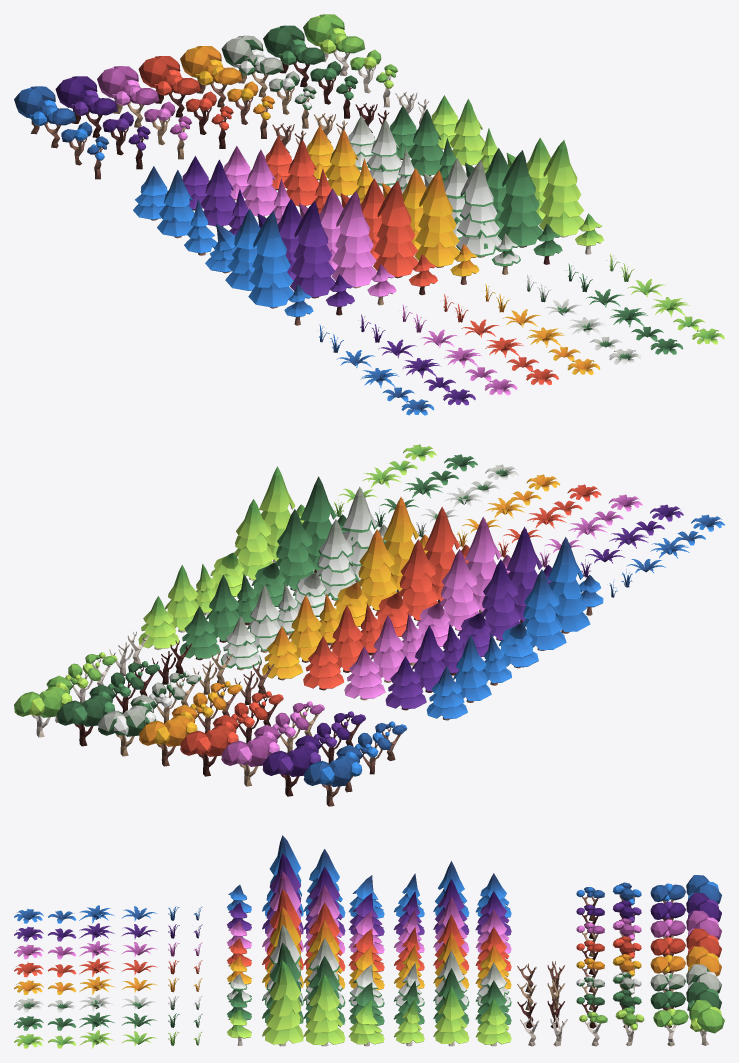
Rendered from ForestLowPoly.fbx.
The picture shows the model from 3 angles, top to bottom: view 1: azimuth 30°, elevation 25°; view 2: azimuth 150°, elevation 25°; view 3: azimuth 270°, elevation 25°; orthographic projection. The views are drawn at different scales.
Parts seen in each view (by area): view 1: BluePine6, MagicPine6, RedPine6, DarkPine6, SpringPine6, GreenPine6, AutumnPine6, SnowPine6, BluePine5, BluePine2, MagicPine2, RedPine2 (+38 smaller); view 2: BluePine6, BluePine5, SnowPine5, MagicPine5, DarkPine5, SpringPine5, AutumnPine5, RedPine5, GreenPine5, DarkPine6, GreenPine6, SpringPine6 (+53 smaller); view 3: GreenPine6, GreenPine5, GreenPine2, GreenPine1, GreenTree1, GreenPine4, GreenPine3, DarkPine6, SnowPine6, AutumnPine6, BluePine6, MagicPine6 (+67 smaller).
Part boxes in pixels (x1,y1,x2,y2): BluePine6: [248, 211, 293, 308]; MagicPine6: [290, 201, 335, 298]; RedPine6: [373, 180, 418, 278]; DarkPine6: [497, 150, 542, 247]; SpringPine6: [331, 191, 376, 288]; GreenPine6: [539, 140, 584, 237]; AutumnPine6: [414, 170, 459, 267]; SnowPine6: [456, 160, 501, 257]; BluePine5: [225, 208, 260, 290]; BluePine2: [157, 170, 194, 238]; MagicPine2: [200, 159, 235, 226]; RedPine2: [283, 139, 318, 206]; BluePine6: [547, 537, 590, 633]; BluePine5: [522, 569, 566, 650]; SnowPine5: [316, 519, 356, 600]; MagicPine5: [481, 559, 521, 640]; DarkPine5: [275, 509, 315, 590]; SpringPine5: [440, 549, 479, 630]; AutumnPine5: [357, 529, 397, 610]; RedPine5: [399, 539, 438, 620]; GreenPine5: [234, 499, 274, 580]; DarkPine6: [300, 476, 336, 572]; GreenPine6: [259, 466, 295, 562]; SpringPine6: [465, 516, 501, 612]; GreenPine6: [262, 960, 303, 1046]; GreenPine5: [303, 974, 345, 1046]; GreenPine2: [433, 986, 469, 1046]; GreenPine1: [475, 998, 511, 1046]; GreenTree1: [689, 1000, 724, 1045]; GreenPine4: [348, 1000, 384, 1046]; GreenPine3: [394, 998, 424, 1046]; DarkPine6: [262, 942, 303, 1023]; SnowPine6: [262, 924, 303, 1005]; AutumnPine6: [262, 907, 303, 987]; BluePine6: [262, 835, 303, 916]; MagicPine6: [262, 853, 303, 934].
Size of the model in its own units: 4006 by 1111 by 8410.
